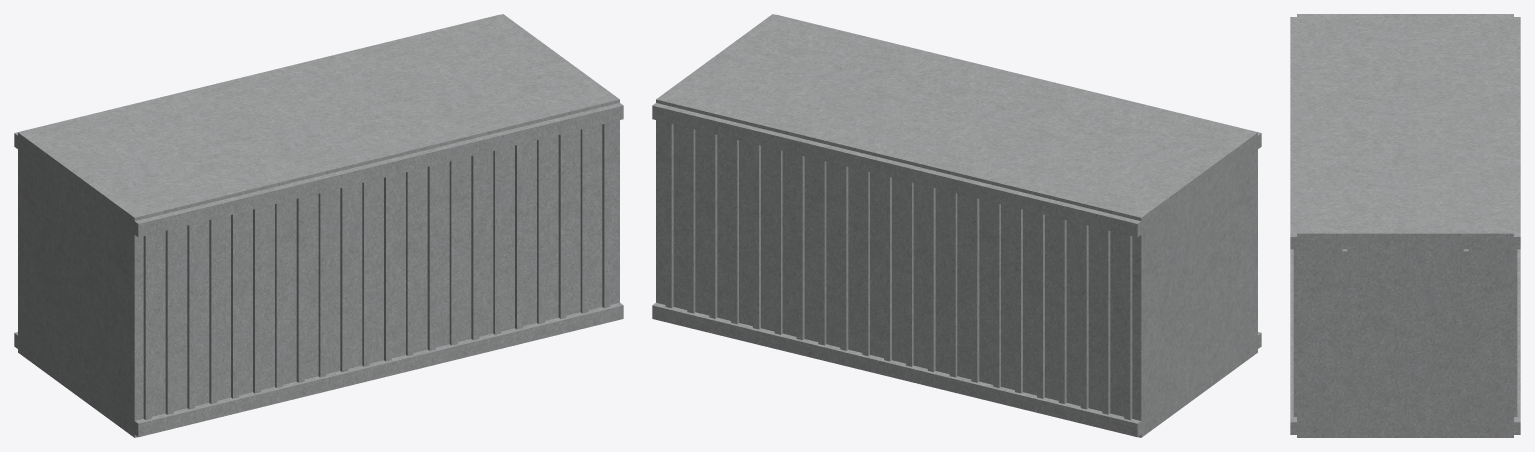
The model's file is shipping_container.obj.
3 renders of one model, left to right at view 1: azimuth 30°, elevation 25°; view 2: azimuth 150°, elevation 25°; view 3: azimuth 270°, elevation 25°, orthographic. The views are drawn at different scales.
Visible parts, largest first — view 1: Industrial_Blue, Roof_Metal, Dark_Frame; view 2: Industrial_Blue, Roof_Metal, Dark_Frame; view 3: Industrial_Blue, Dark_Frame, Metal_Silver, Roof_Metal.
Boxes of the visible parts, left/top/right/bottom form: Industrial_Blue: left=18, top=14, right=619, bottom=437; Roof_Metal: left=143, top=122, right=610, bottom=419; Dark_Frame: left=14, top=14, right=623, bottom=437; Industrial_Blue: left=656, top=14, right=1257, bottom=437; Roof_Metal: left=665, top=122, right=1132, bottom=419; Dark_Frame: left=652, top=14, right=1261, bottom=437; Industrial_Blue: left=1297, top=14, right=1513, bottom=437; Dark_Frame: left=1290, top=17, right=1520, bottom=434; Metal_Silver: left=1342, top=249, right=1468, bottom=423; Roof_Metal: left=1293, top=249, right=1517, bottom=416.
Bounding box in the file's own units: 6.05 × 2.6 × 2.66.
